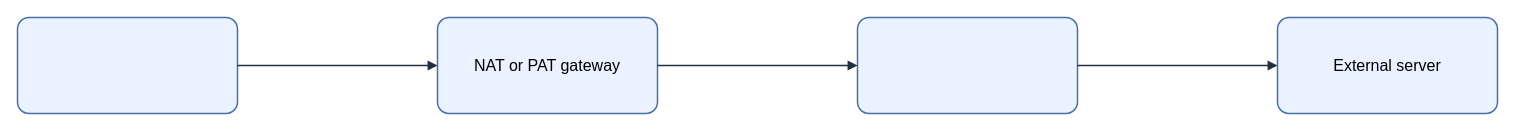
The diagram is 1516 pixels wide and 132 high, and some of its shapes have lost their labels. Each missing label, with the box of its shape:
Private client: (16, 16, 238, 114)
Public address mapping: (856, 16, 1078, 114)
